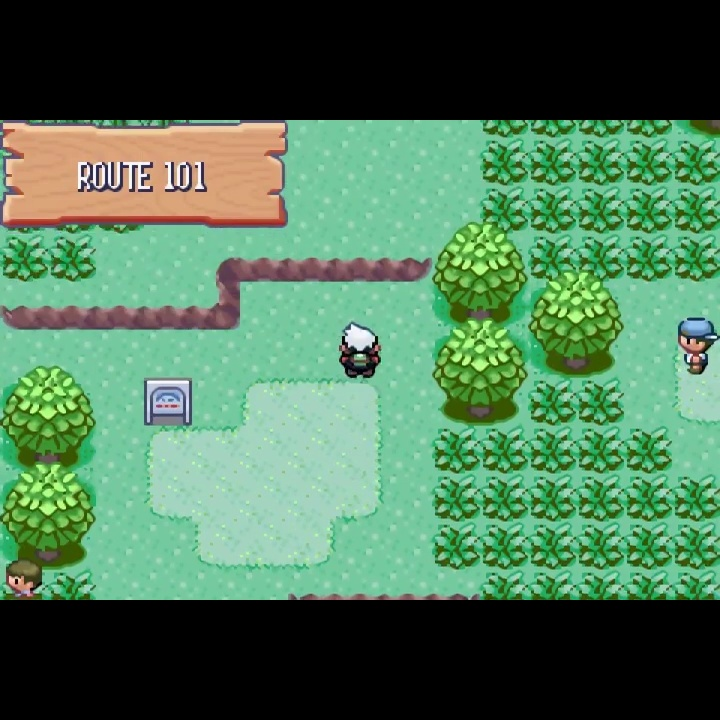grass: (480, 138, 531, 188), (673, 234, 720, 287), (49, 234, 98, 284), (577, 473, 625, 524), (625, 235, 673, 286), (1, 233, 49, 284), (575, 138, 626, 186), (577, 186, 626, 235), (528, 426, 578, 474), (529, 473, 577, 523), (623, 523, 673, 571), (479, 187, 529, 235), (625, 186, 673, 236), (576, 378, 625, 426), (480, 524, 529, 572), (624, 475, 673, 523), (576, 523, 625, 571), (529, 235, 578, 283), (577, 235, 625, 284), (671, 186, 720, 234), (624, 139, 673, 187), (528, 377, 576, 425), (625, 427, 673, 475), (433, 523, 481, 571), (672, 475, 720, 523), (529, 522, 577, 570), (672, 523, 720, 571), (480, 427, 529, 474), (433, 474, 480, 523), (482, 474, 529, 523), (530, 138, 577, 187), (672, 140, 720, 187), (579, 425, 625, 474), (530, 187, 576, 236), (433, 427, 480, 474), (48, 569, 98, 600), (625, 568, 674, 599), (673, 569, 720, 601), (576, 569, 626, 599), (530, 570, 578, 600), (481, 571, 530, 599), (576, 120, 626, 139), (529, 121, 577, 139), (481, 120, 530, 137), (624, 121, 673, 138)
npc: (336, 320, 387, 382), (675, 314, 720, 378), (1, 558, 48, 600)
wall: (433, 318, 528, 428), (527, 271, 625, 377), (1, 363, 97, 468), (1, 463, 97, 568), (433, 223, 528, 323)
